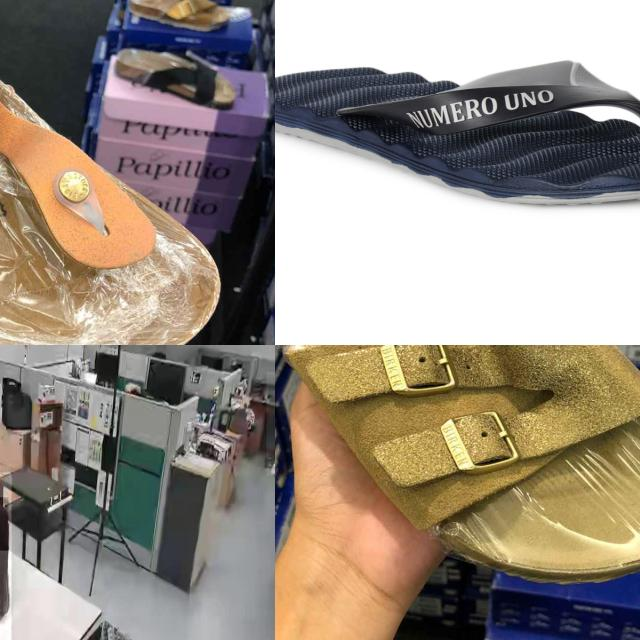Sandals: (275, 345, 640, 595), (0, 0, 232, 345), (275, 57, 640, 207)
head_nohelmet: (0, 497, 8, 551)
shoes: (268, 459, 275, 478)
